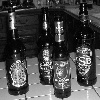beer: (4, 8, 32, 97)
